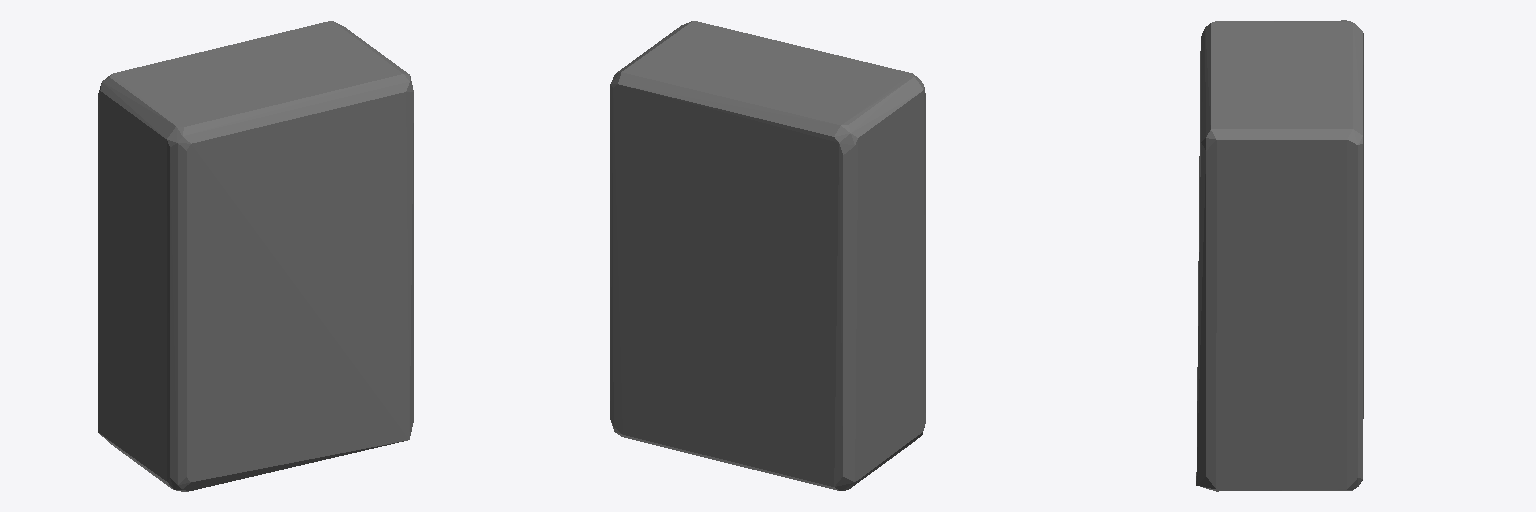
URDF robot description (box_014):
<?xml version="1.0" ?>
<robot name="box_014">
  <material name="color">
    <color rgba=".5 .5 .5 1"/>
  </material>

  <link name="base_link">
    <contact>
      <lateral_friction value="1.0"/>
      <rolling_friction value="0.001"/>
      <spinning_friction value="0.001"/>
      <inertia_scaling value="1.0"/>
    </contact>
    <inertial>
      <origin rpy="0 0 0" xyz="4.06052e-06 -1.76466e-05 -7.22279e-05"/>
       <mass value="0.1"/>
       <inertia ixx="1" ixy="0" ixz="0" iyy="1" iyz="0" izz="1"/>
    </inertial>

    <visual>
      <origin rpy="0 0 0" xyz="0 0 0"/>
      <geometry>
        <mesh filename="box_014_vhacd_0_of_1.obj" scale="1 1 1"/>
      </geometry>
      <material name="color"/>
    </visual>

    <collision>
      <origin rpy="0 0 0" xyz="0 0 0"/>
      <geometry>
        <mesh filename="box_014_vhacd_0_of_1.obj" scale="1 1 1"/>
      </geometry>
    </collision>

  </link>
</robot>

--- Facts derived from the render (not from the file) ---
The picture shows the robot from 3 angles, left to right: view 1: azimuth 30°, elevation 25°; view 2: azimuth 150°, elevation 25°; view 3: azimuth 270°, elevation 25°; orthographic projection.
Model box_014 with 1 links and 0 joints (none), rooted at base_link, posed all joints at 0.
Visible links, largest first — view 1: base_link; view 2: base_link; view 3: base_link.
Link boxes in pixels (x1,y1,x2,y2): base_link: (98, 21, 413, 491); base_link: (610, 21, 925, 490); base_link: (1196, 20, 1363, 491).
Bounding box of the posed robot: 0.145 × 0.0871 × 0.2085 m (x, y, z).
Meshes: 1 distinct files referenced, 1 mesh visuals loaded (1 OBJ).